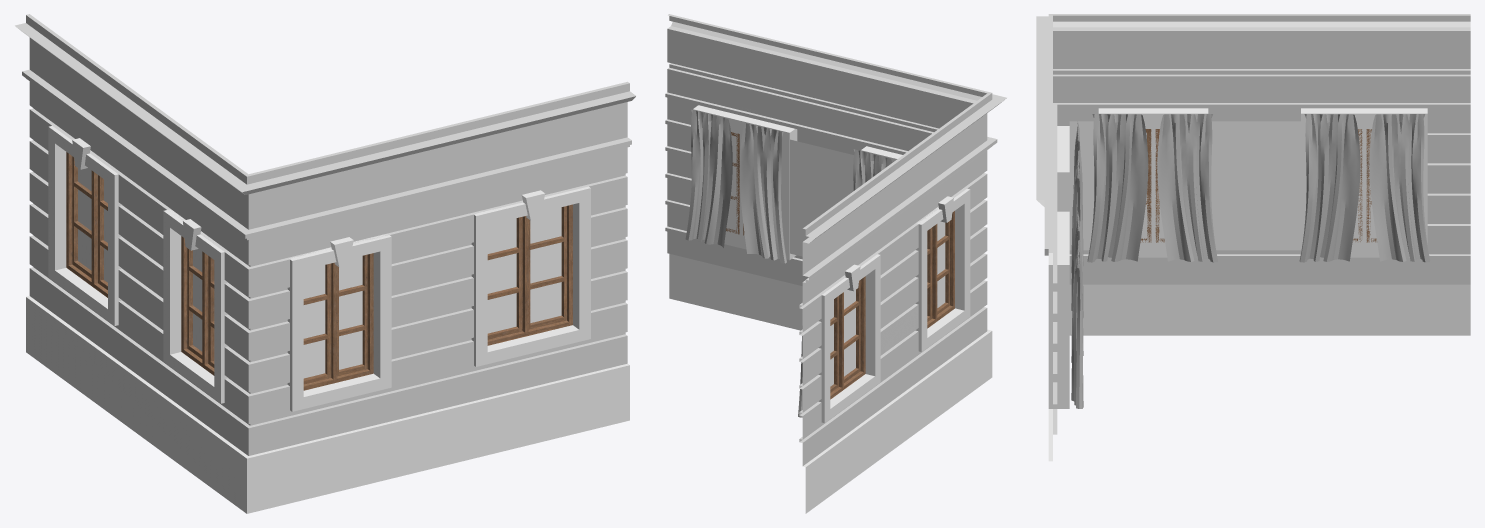
File: Facade_Bottom_Corner.fbx
3 renders of one model, left to right at view 1: azimuth 30°, elevation 25°; view 2: azimuth 150°, elevation 25°; view 3: azimuth 270°, elevation 25°, orthographic. The views are drawn at different scales.
Parts seen in each view (by area): view 1: Facade_Bottom_Corner; view 2: Facade_Bottom_Corner; view 3: Facade_Bottom_Corner.
Part boxes in pixels (x1,y1,x2,y2): Facade_Bottom_Corner: (15, 14, 635, 513); Facade_Bottom_Corner: (665, 14, 1006, 513); Facade_Bottom_Corner: (1036, 14, 1470, 461).
Bounding box in the file's own units: 5.77 × 4.71 × 5.77.
